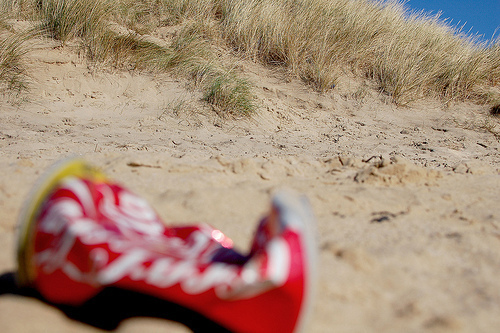litter: (11, 158, 313, 332)
